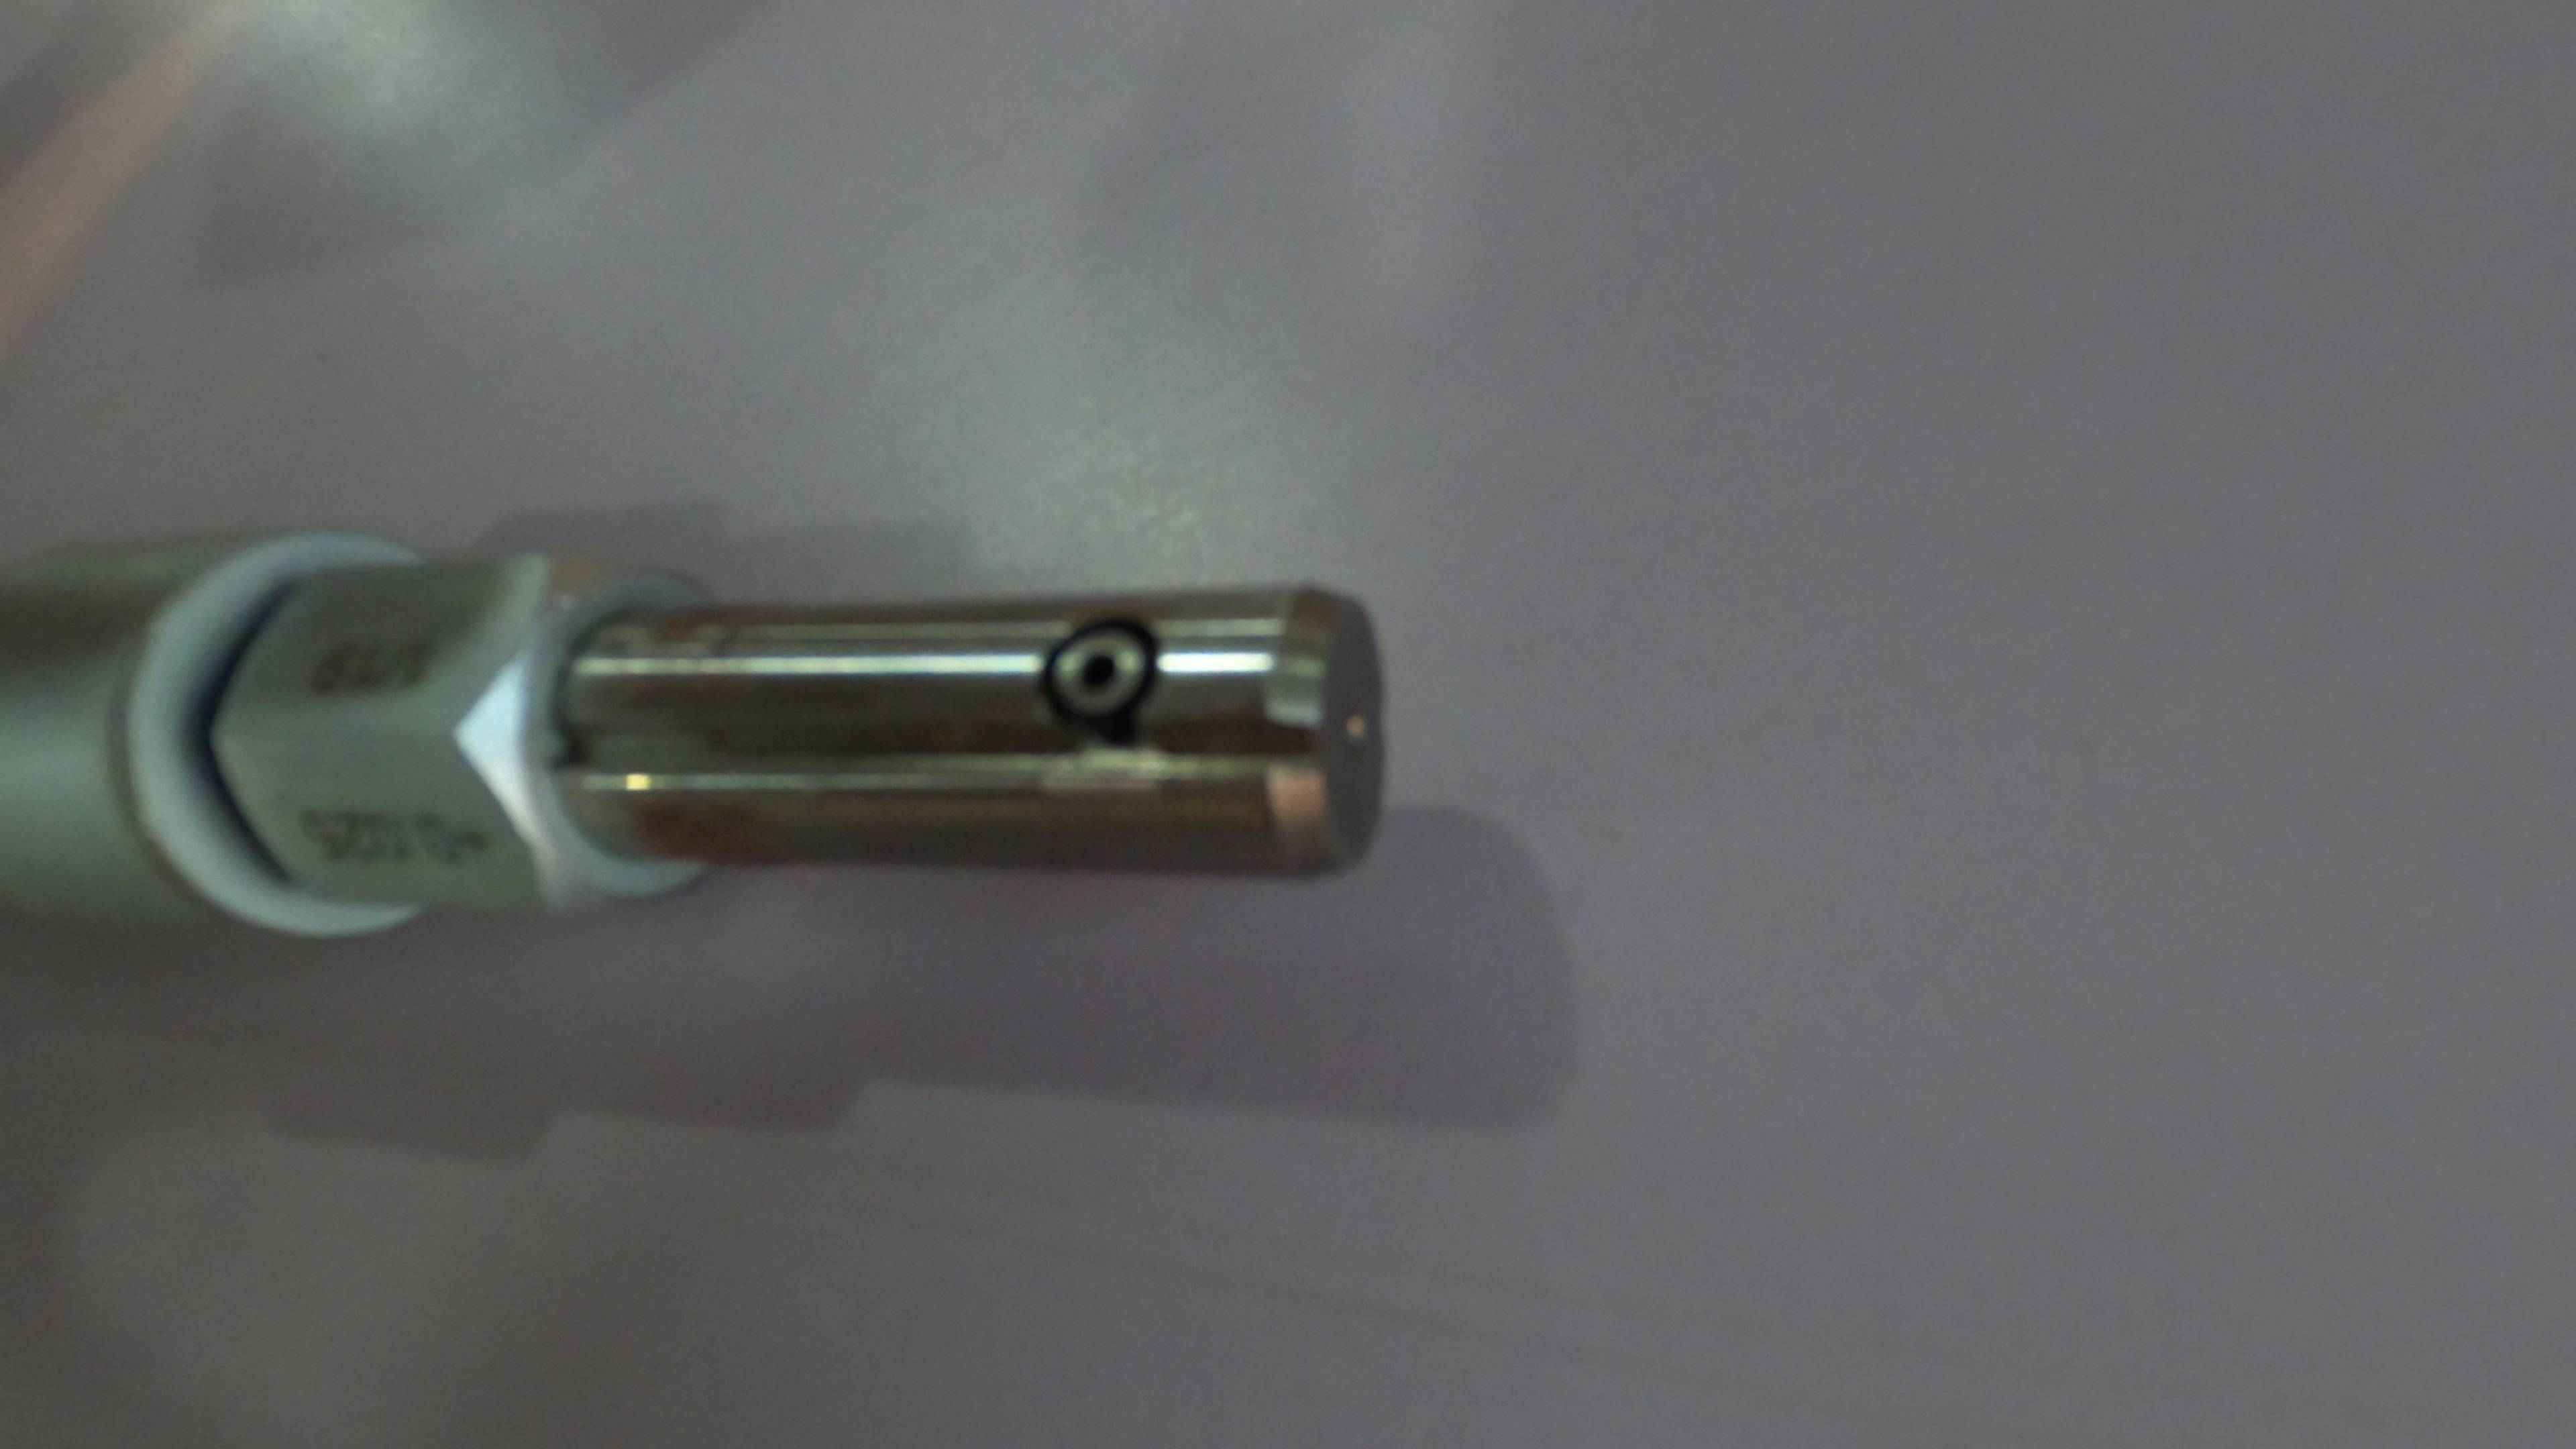air_gauge: (9, 518, 1394, 954)
